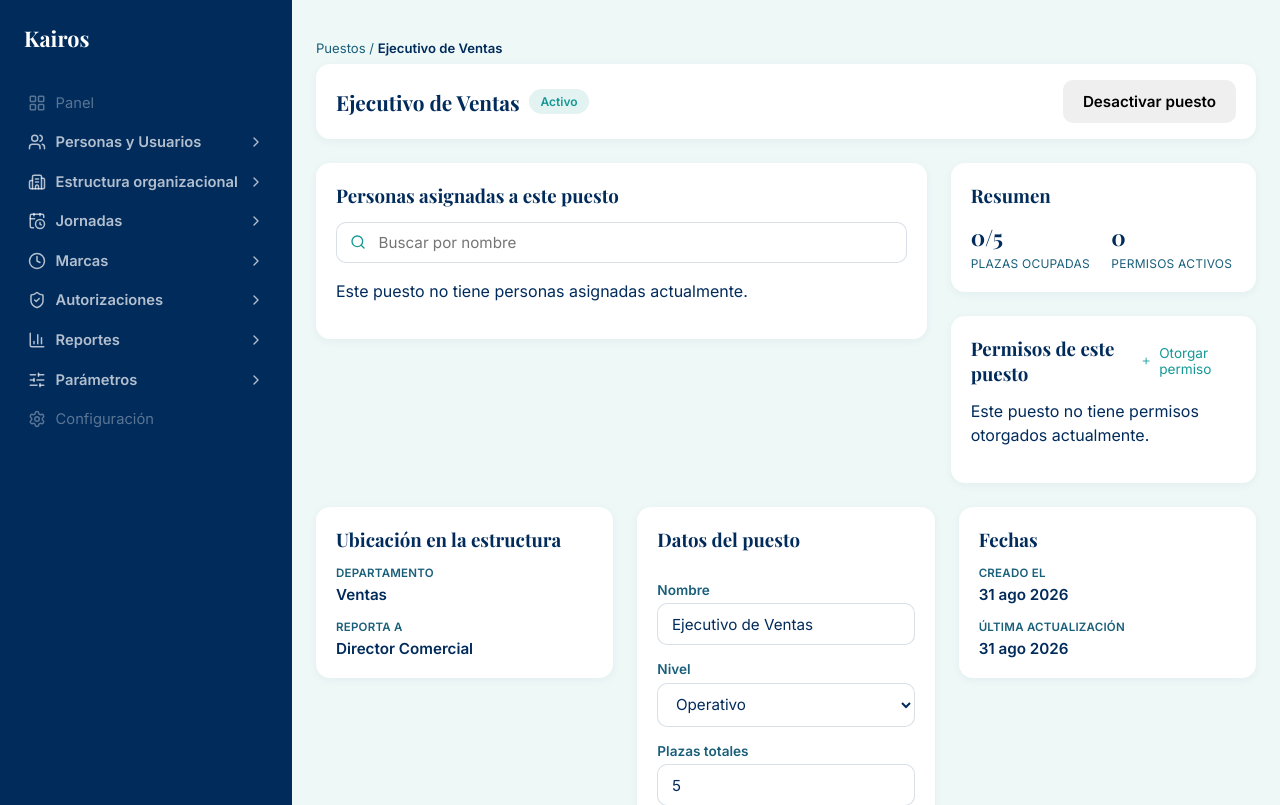
Test: FichaPuestoPage › bloquea la desactivación por subordinados activos y muestra el detail real del backend
expect the text "Ejecutivo de Ventas" next to "Puestos" is shown: met, box x1=378 y1=40 x2=503 y2=56
Click the button "Desactivar puesto".
click(1149, 102)  # box x1=1063 y1=80 x2=1236 y2=123
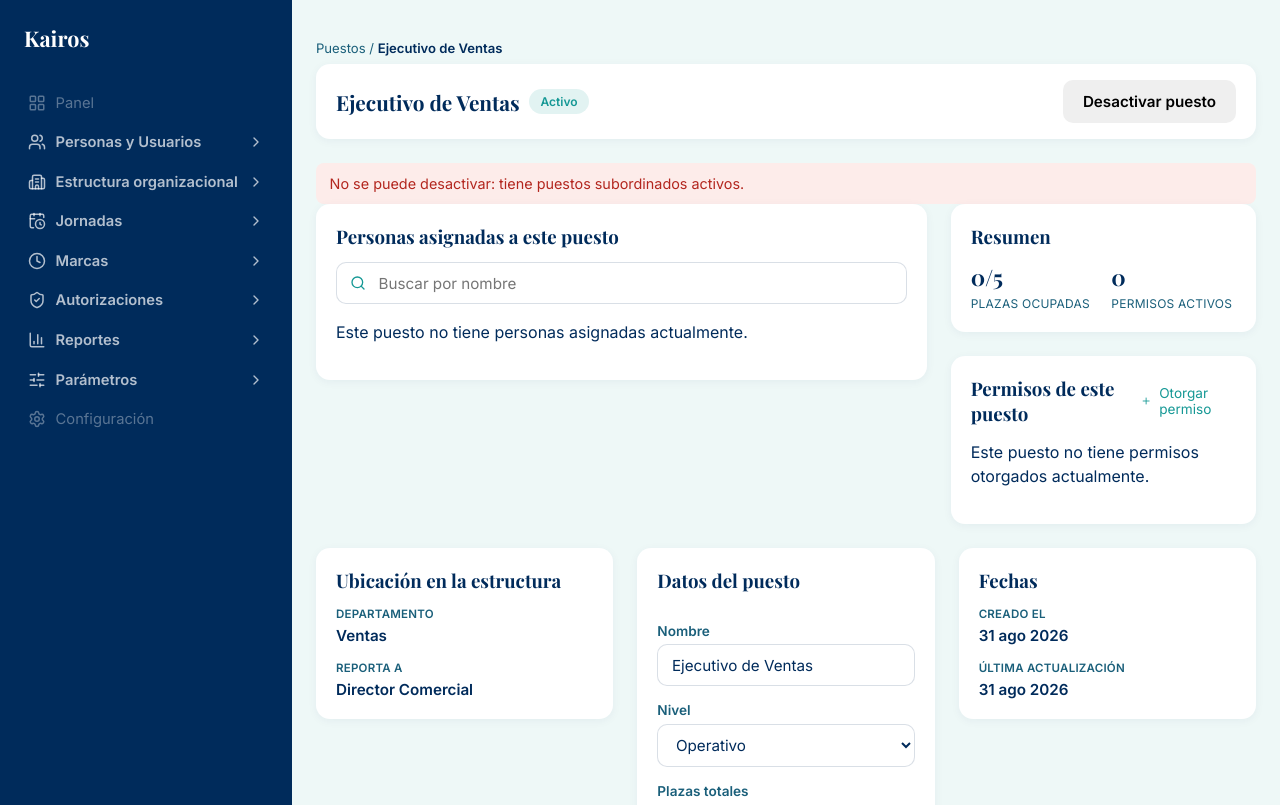
expect the text "Activo" is shown: met, box x1=529 y1=89 x2=589 y2=114
expect the text "No se puede desactivar: tiene puestos subordinados activos." is shown: met, box x1=316 y1=163 x2=1256 y2=204
